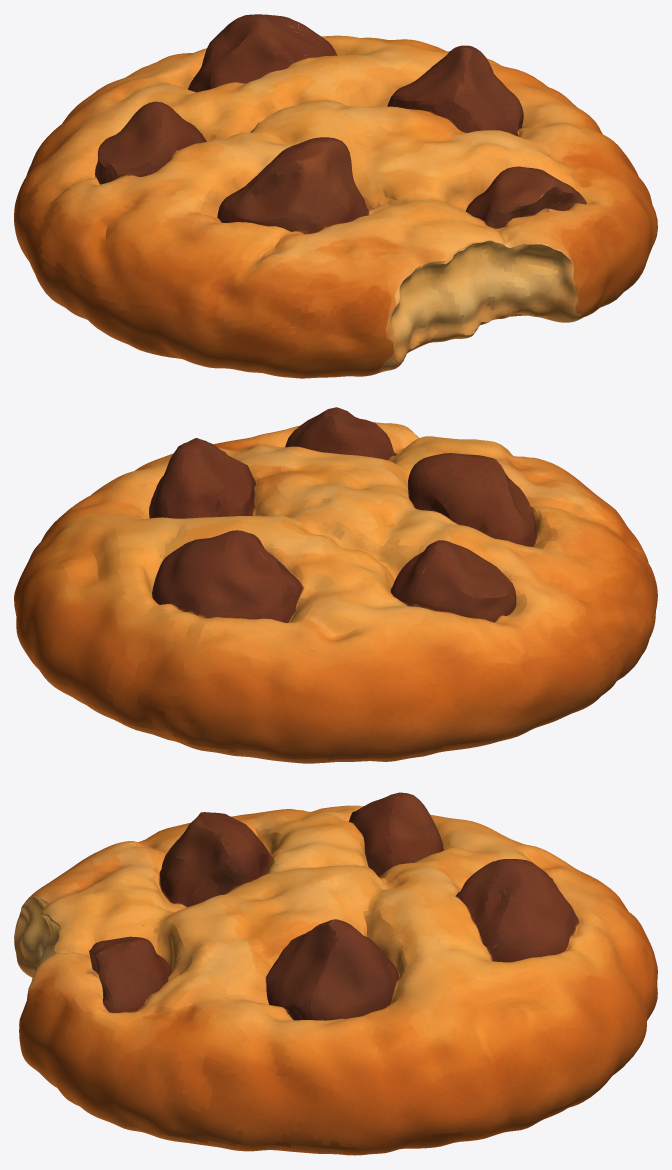
The model's file is Meshy_AI_Bitten_Chocolate_Chip_1122031223_texture.glb.
3 views of the same model, one above another, from view 1: azimuth 30°, elevation 25°; view 2: azimuth 150°, elevation 25°; view 3: azimuth 270°, elevation 25° (orthographic). The views are drawn at different scales.
Parts seen in each view (by area): view 1: Mesh0; view 2: Mesh0; view 3: Mesh0.
Boxes of the visible parts, x1,y1,x2,y2 form: Mesh0: [14, 14, 657, 378]; Mesh0: [14, 407, 657, 763]; Mesh0: [14, 792, 657, 1155].
Size of the model in its own units: 1.9 by 0.5997 by 1.85.
Materials: 1 (1 with a texture image).
